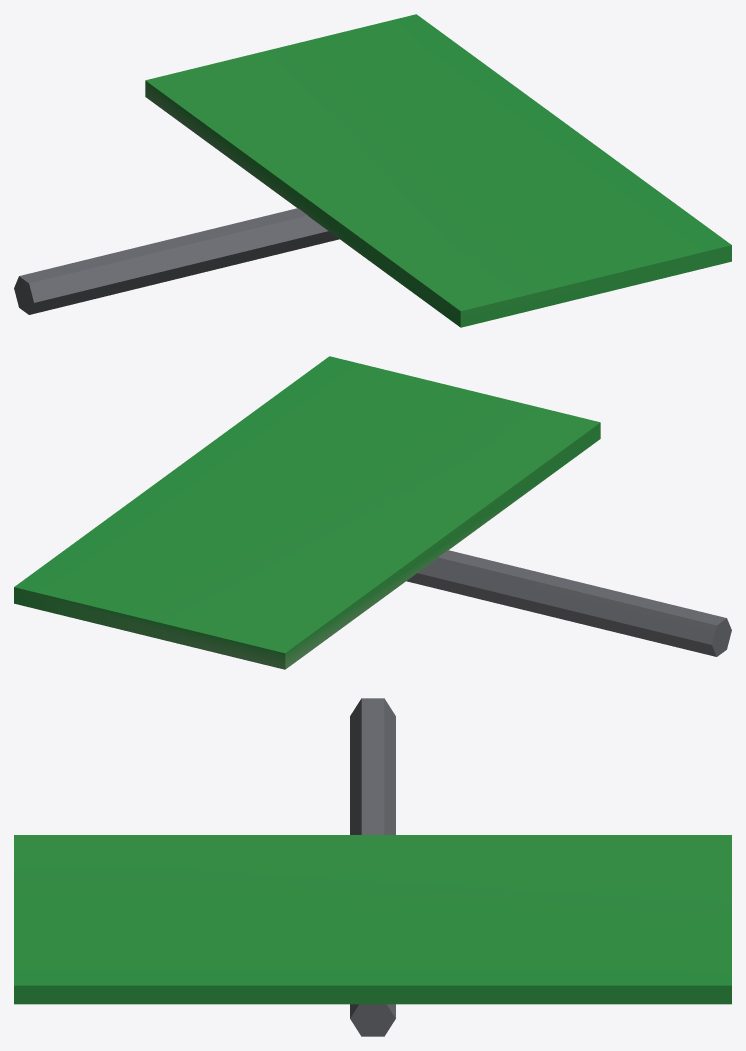
The model's file is Sign.glb.
The picture shows the model from 3 angles, top to bottom: view 1: azimuth 30°, elevation 25°; view 2: azimuth 150°, elevation 25°; view 3: azimuth 270°, elevation 25°; orthographic projection. The views are drawn at different scales.
Visible parts, largest first — view 1: Sign, Cylinder; view 2: Sign, Cylinder; view 3: Sign, Cylinder.
Part boxes in pixels (x1=…): Sign: x1=145, y1=14, x2=731, y2=327; Cylinder: x1=14, y1=208, x2=339, y2=314; Sign: x1=14, y1=356, x2=600, y2=669; Cylinder: x1=406, y1=550, x2=731, y2=656; Sign: x1=14, y1=835, x2=731, y2=1004; Cylinder: x1=350, y1=698, x2=395, y2=1036.
Size of the model in its own units: 1.22 by 0.1008 by 1.21.
